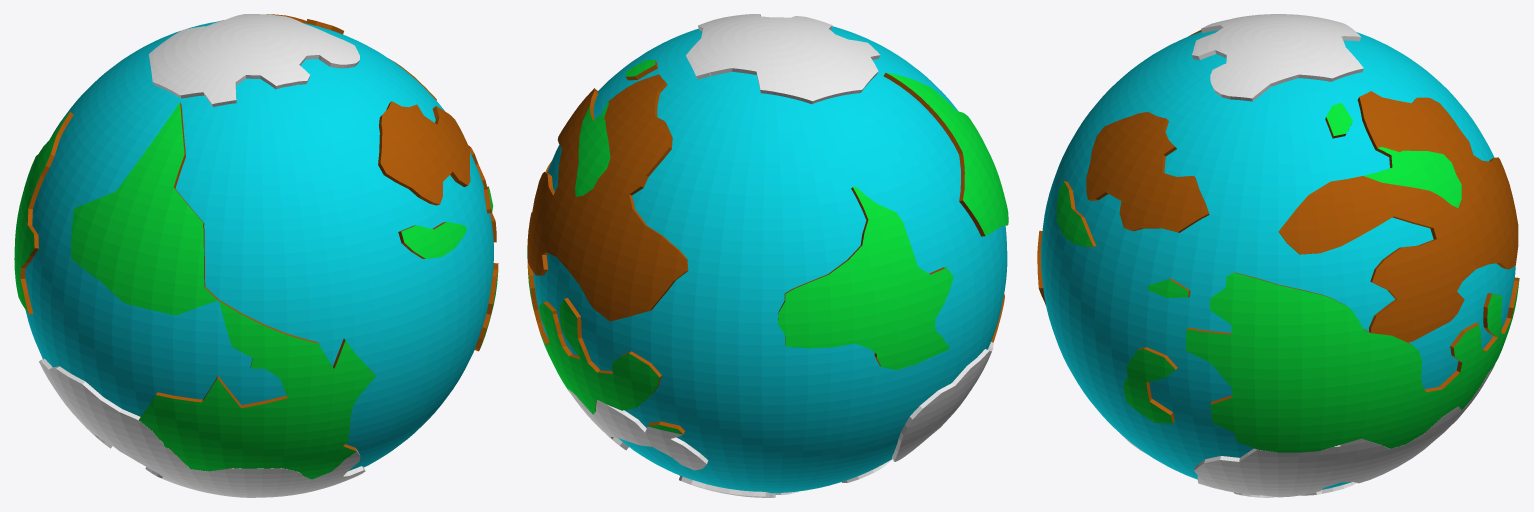
Rendered from Planet4.fbx.
The picture shows the model from 3 angles, left to right: view 1: azimuth 30°, elevation 25°; view 2: azimuth 150°, elevation 25°; view 3: azimuth 270°, elevation 25°; orthographic projection.
Parts seen in each view (by area): view 1: 球体.002, 球体.001; view 2: 球体.002, 球体.001; view 3: 球体.001, 球体.002.
Boxes of the visible parts, bbox=[...] form: 球体.002: bbox=[25, 21, 493, 470]; 球体.001: bbox=[14, 14, 498, 497]; 球体.002: bbox=[533, 26, 1007, 493]; 球体.001: bbox=[527, 14, 1008, 497]; 球体.001: bbox=[1037, 14, 1519, 497]; 球体.002: bbox=[1041, 30, 1515, 489].
Bounding box in the file's own units: 470 × 467 × 472.
